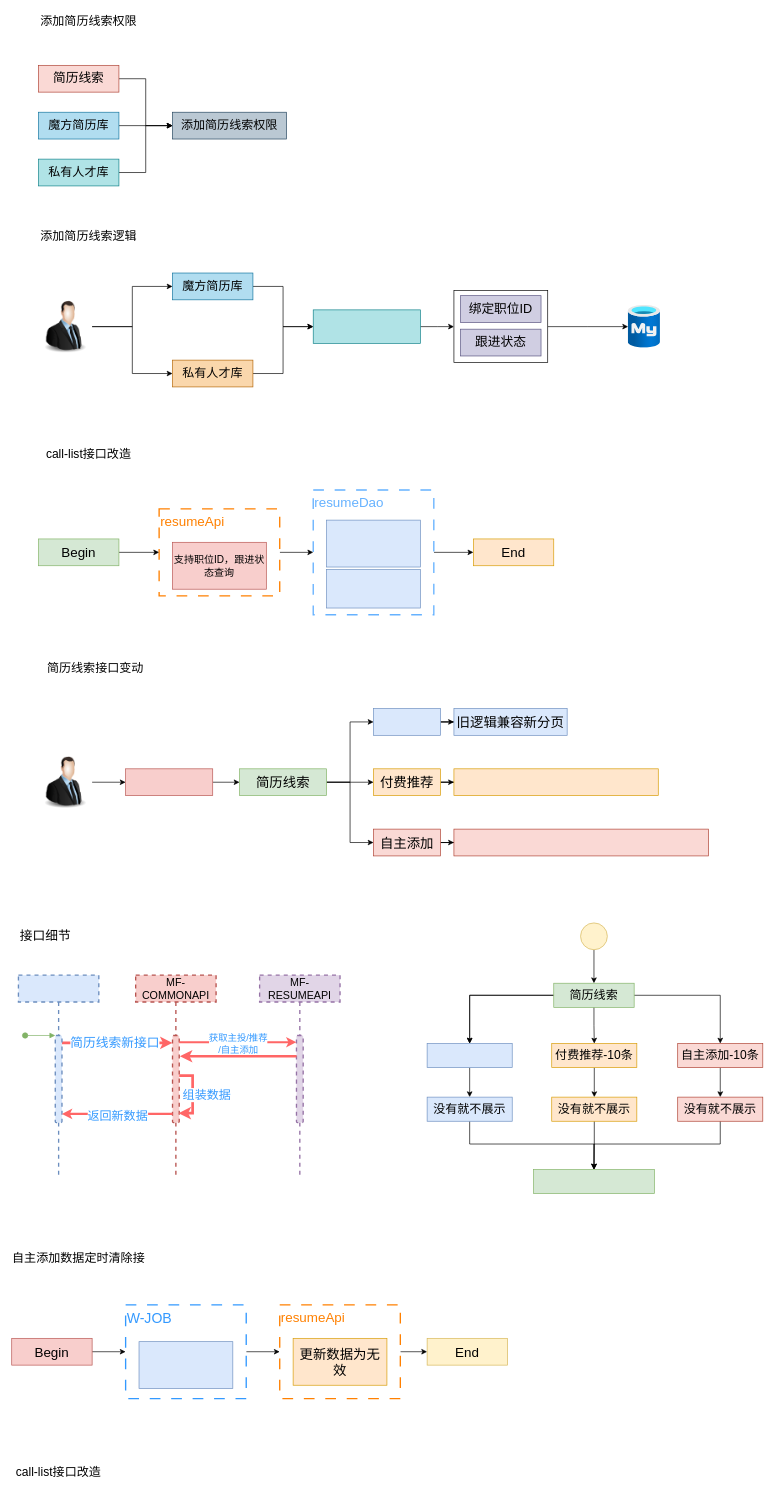
The diagram is 775 pixels wide and 1497 high, and some of its shapes have lost their labels. Each missing label, with the centre of its shape:
"call_list_log" belongs at (644,326).
"MF- PC" belongs at (58,1075).
"主投简历" belongs at (407,721).
"主投简历-10条" belongs at (469,1055).
"增加默认排序规则" belongs at (373,588).
"旧逻辑兼容新分页+去除恒星推荐" belongs at (555,782).
"旧逻辑兼容新分页+新增筛选项和展示参数" belongs at (581,842).
"添加简历线索（复用Call-List）" belongs at (366,326).
"简历线索（0-30条）" belongs at (593,1181).
"获取3天前自主添加的数据" belongs at (185,1365).
"返回增加是否下载标识，年龄，职位" belongs at (373,543).
"邀约管理" belongs at (169,782).
